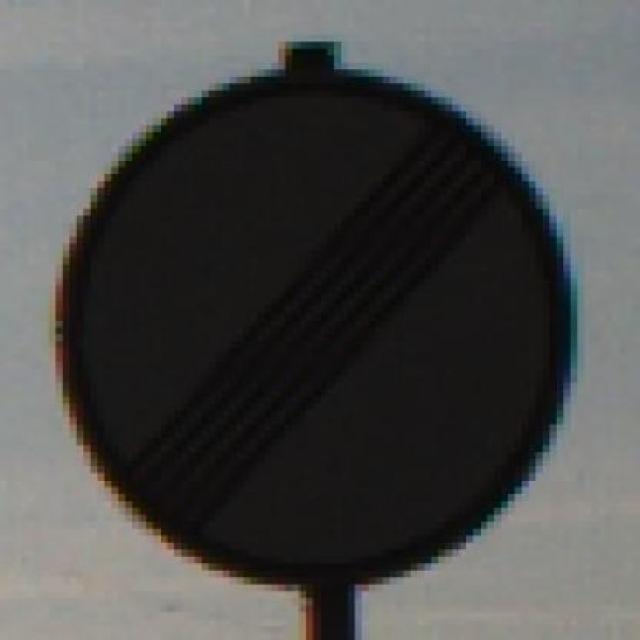End of all speed and passing limits: (34, 27, 598, 605)
